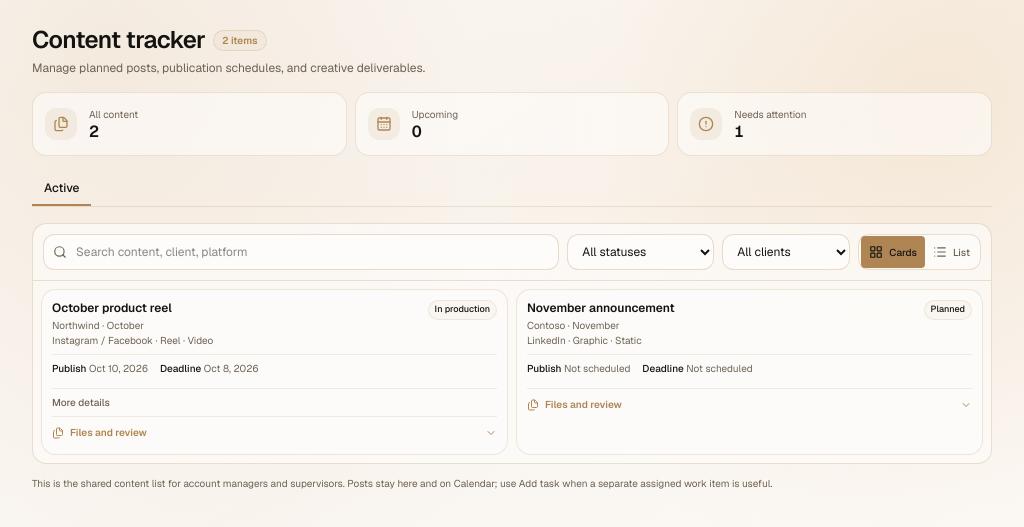
Test case: unified content tracker › shows content, owner and workflow details, and can search it
Expected: the heading "Content tracker" is shown, [32,24,205,56]
Expected: the text "All content" is shown, [89,106,138,122]
Click the heading "More details" at x=81, y=402, box [52,396,110,409]
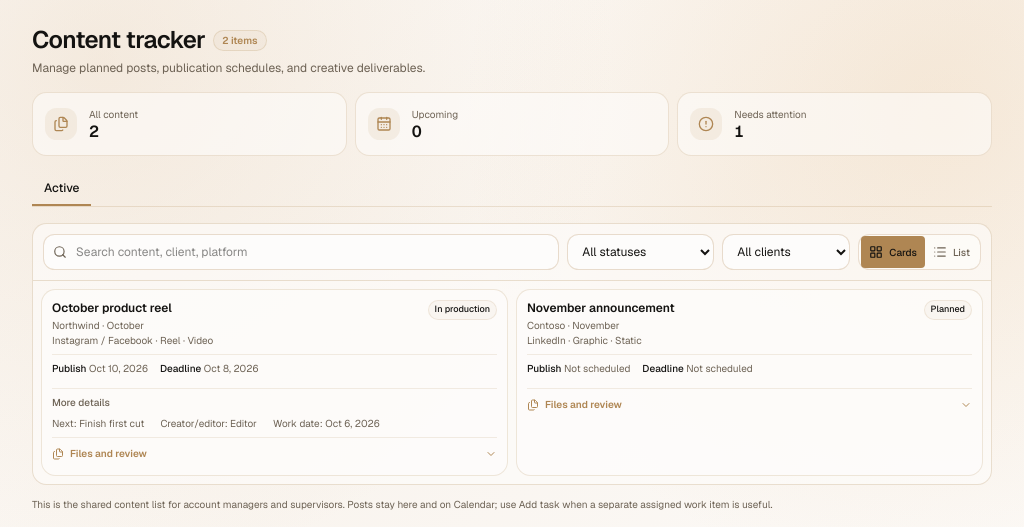
Expected: the text "Next: Finish first cut" is shown, [52,416,144,431]
Expected: the text "Creator/editor: Editor" is shown, [160,416,257,431]
Type "contoso" into the field labelled "Search content" at x=301, y=252, box [43,234,559,270]
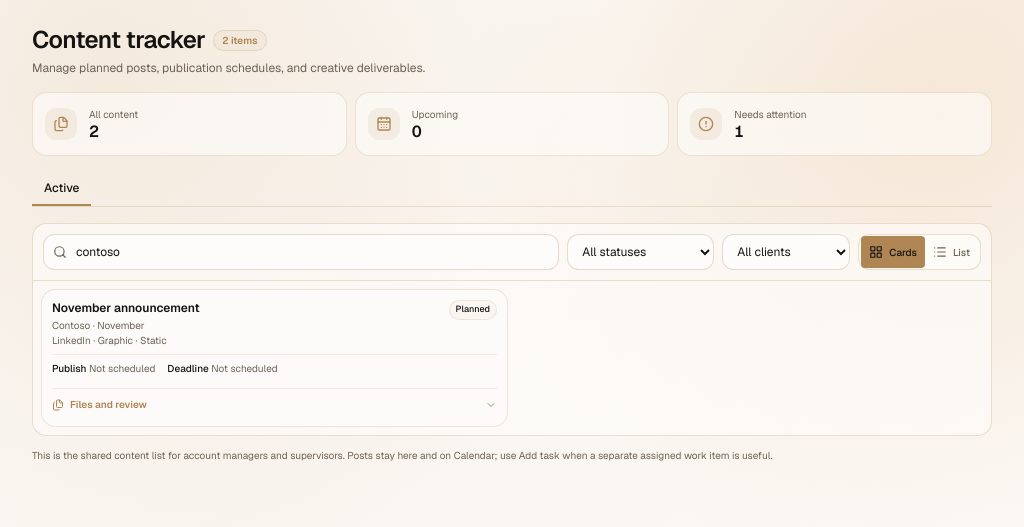
Expected: the heading "November announcement" is shown, [52,300,200,316]
Expected: the heading "October product reel" is gone
